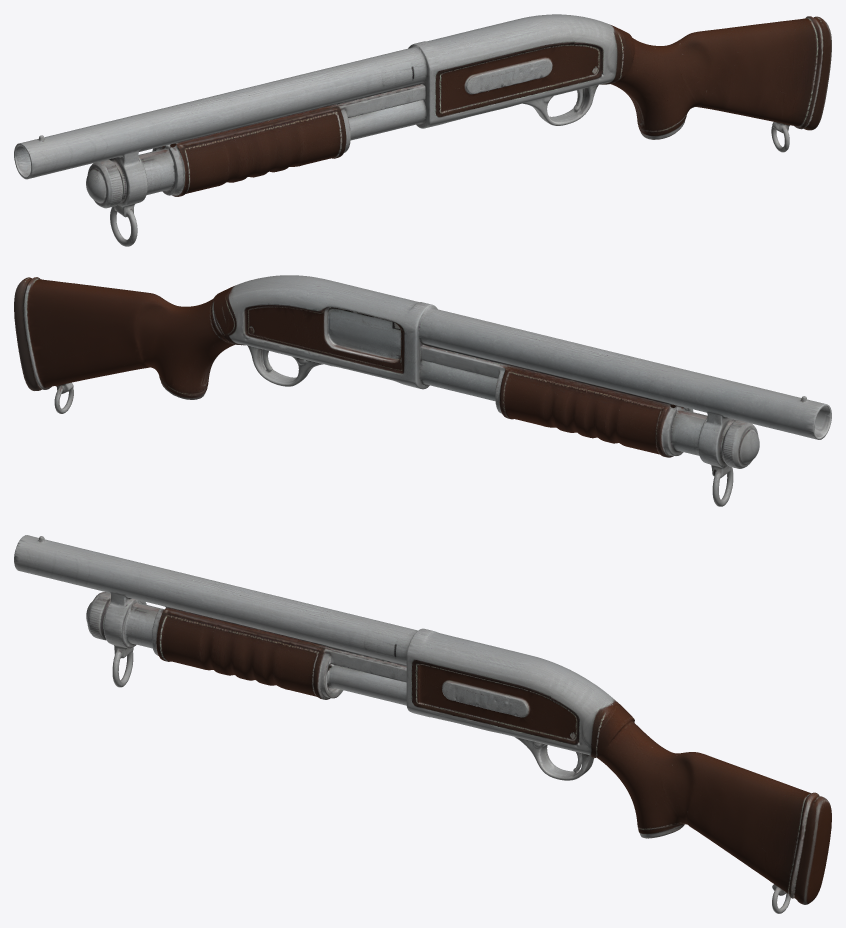
Rendered from Meshy_AI_The_Mechanist_s_Long__0605172902_texture.fbx.
The picture shows the model from 3 angles, top to bottom: view 1: azimuth 30°, elevation 25°; view 2: azimuth 150°, elevation 25°; view 3: azimuth 330°, elevation 25°; orthographic projection.
Parts seen in each view (by area): view 1: Mesh_0; view 2: Mesh_0; view 3: Mesh_0.
Part boxes in pixels (<box>): Mesh_0: <box>14,14,831,246</box>; Mesh_0: <box>14,275,831,506</box>; Mesh_0: <box>14,535,831,913</box>.
Bounding box in the file's own units: 190 × 44.39 × 12.
Materials: 1 (1 with a texture image).
